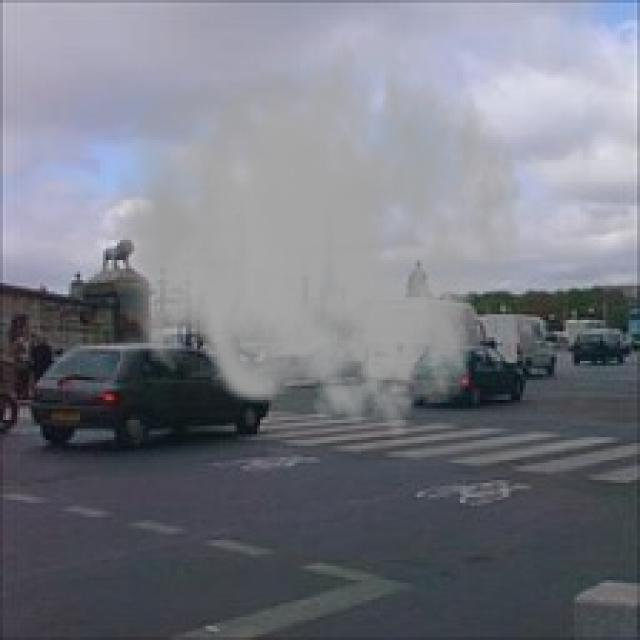smoke: (108, 14, 523, 440)
